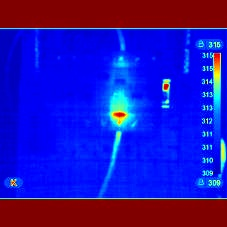Critical: (108, 110, 135, 129)
